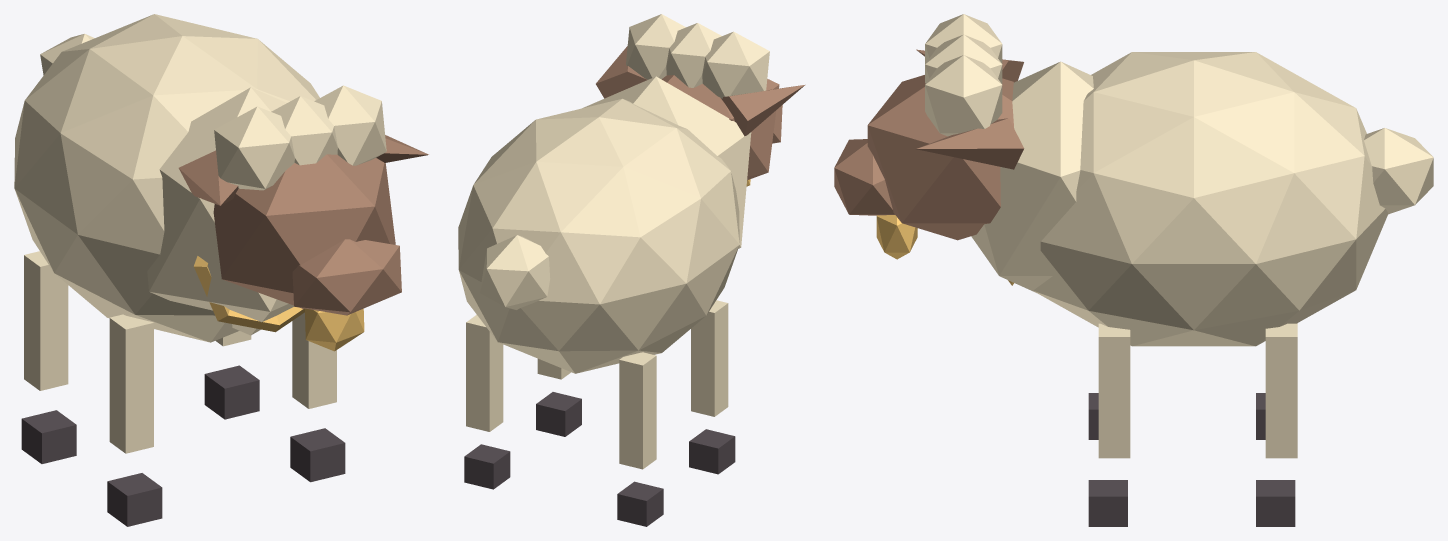
File: dawn-lamb.glb
The picture shows the model from 3 angles, left to right: view 1: azimuth 30°, elevation 25°; view 2: azimuth 150°, elevation 25°; view 3: azimuth 270°, elevation 25°; orthographic projection. The views are drawn at different scales.
Visible parts, largest first — view 1: wool_body, face, wool_chest, muzzle, leg, leg.002, crown_wool_0, crown_wool_2, leg.001, crown_wool_1, hoof.001, hoof.002 (+7 smaller); view 2: wool_body, wool_chest, leg.002, tail, leg, leg.003, crown_wool_0, crown_wool_2, face, crown_wool_1, ear_-1, hoof.002 (+5 smaller); view 3: wool_body, wool_chest, face, crown_wool_2, leg.003, leg.001, tail, muzzle, ear_1, hoof.001, hoof.003, crown_wool_0 (+2 smaller).
Part boxes in pixels (x1=…): wool_body: x1=14, y1=14, x2=319, y2=342; face: x1=213, y1=154, x2=395, y2=308; wool_chest: x1=147, y1=87, x2=293, y2=335; muzzle: x1=292, y1=239, x2=401, y2=315; leg: x1=109, y1=314, x2=153, y2=453; leg.002: x1=24, y1=251, x2=68, y2=390; crown_wool_0: x1=214, y1=106, x2=294, y2=190; crown_wool_2: x1=314, y1=85, x2=386, y2=165; leg.001: x1=292, y1=312, x2=336, y2=408; crown_wool_1: x1=271, y1=96, x2=337, y2=165; hoof.001: x1=290, y1=428, x2=345, y2=482; hoof.002: x1=21, y1=410, x2=76, y2=463; wool_body: x1=458, y1=98, x2=739, y2=373; wool_chest: x1=582, y1=76, x2=751, y2=248; leg.002: x1=619, y1=352, x2=656, y2=469; tail: x1=479, y1=235, x2=550, y2=309; leg: x1=691, y1=300, x2=728, y2=416; leg.003: x1=466, y1=314, x2=503, y2=431; crown_wool_0: x1=702, y1=31, x2=769, y2=98; crown_wool_2: x1=626, y1=14, x2=685, y2=79; face: x1=662, y1=75, x2=779, y2=180; crown_wool_1: x1=666, y1=23, x2=721, y2=87; ear_-1: x1=721, y1=84, x2=805, y2=136; hoof.002: x1=617, y1=481, x2=663, y2=526; wool_body: x1=1033, y1=52, x2=1388, y2=346; wool_chest: x1=971, y1=61, x2=1093, y2=292; face: x1=867, y1=75, x2=1014, y2=240; crown_wool_2: x1=925, y1=55, x2=1002, y2=136; leg.003: x1=1265, y1=323, x2=1297, y2=458; leg.001: x1=1098, y1=323, x2=1130, y2=458; tail: x1=1364, y1=128, x2=1433, y2=214; muzzle: x1=834, y1=139, x2=894, y2=215; ear_1: x1=916, y1=118, x2=1024, y2=169; hoof.001: x1=1088, y1=480, x2=1127, y2=526; hoof.003: x1=1256, y1=480, x2=1295, y2=526; crown_wool_0: x1=925, y1=14, x2=1002, y2=63.
Bounding box in the file's own units: 1.01 × 1.61 × 1.98.
